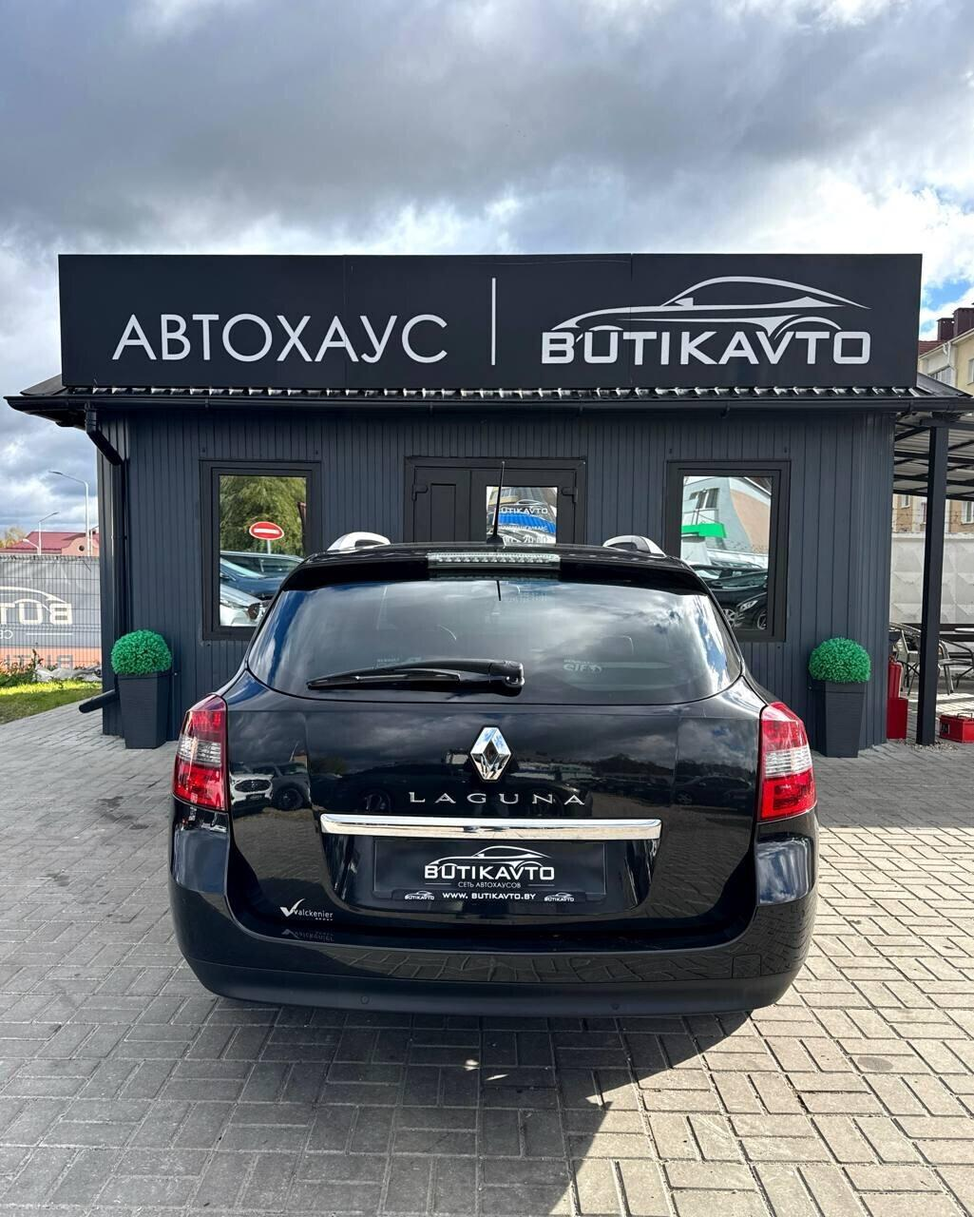Laguna_2010-2015: (150, 531, 827, 1071)
